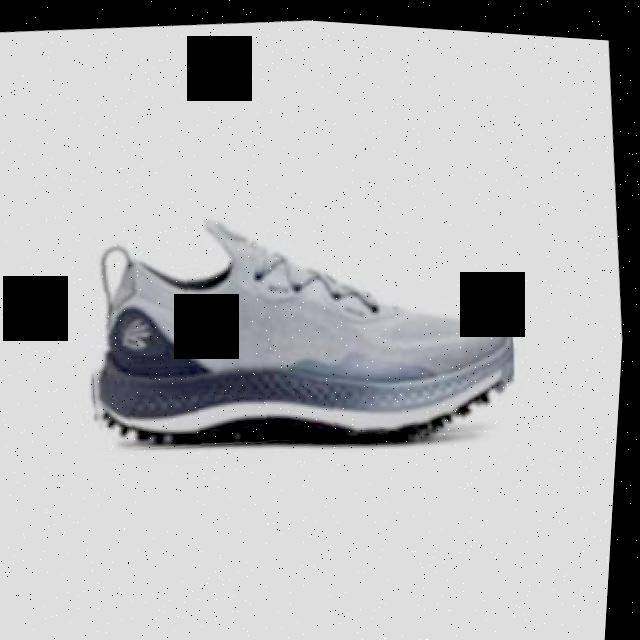shoe: (73, 179, 532, 471)
